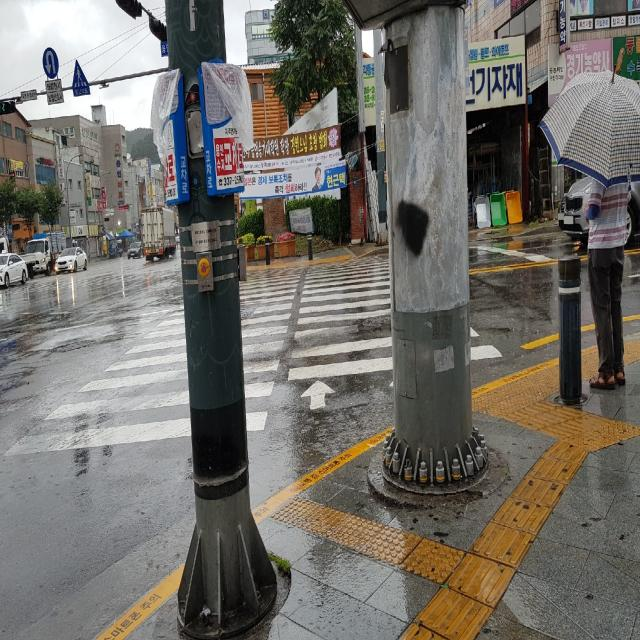횡단보도: (4, 255, 504, 458)
